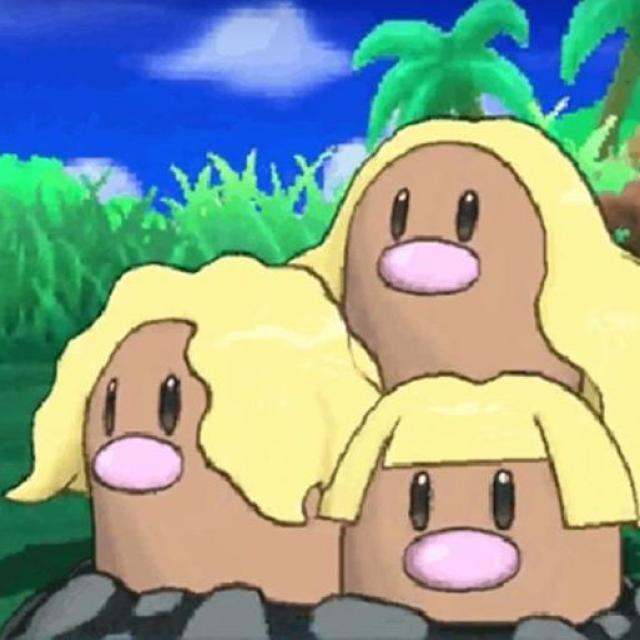Dugtrio: (81, 131, 640, 626)
